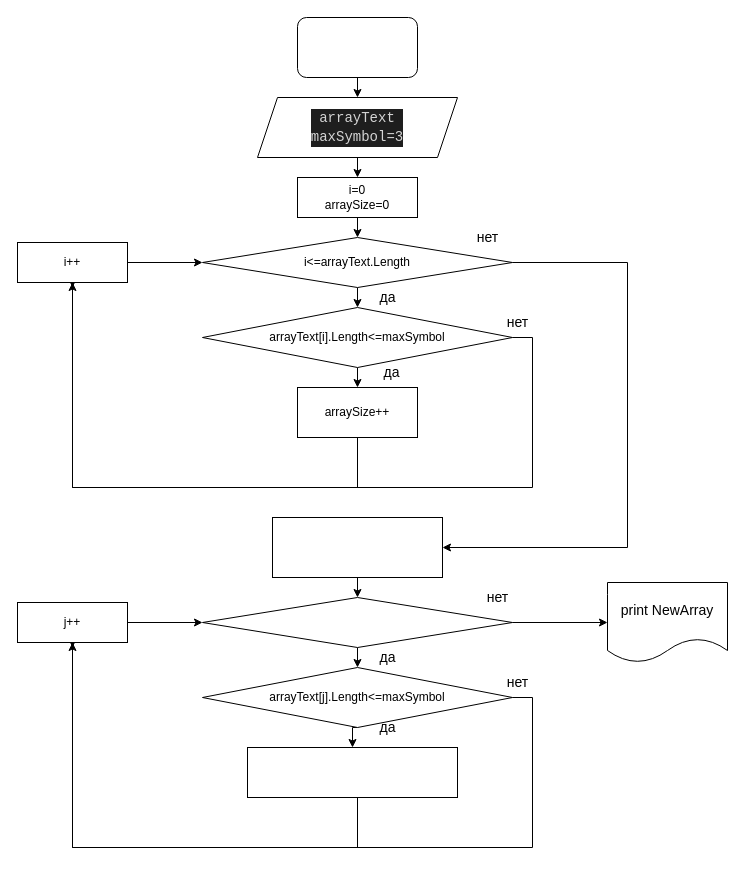
This 745x873 diagram has some shape labels left out. Here are the shapes that lost their labels. From the top down, the box of each, then its label:
(296, 16, 418, 78): начало
(272, 516, 442, 578): NewArray.Length num = 0 j = 0
(202, 596, 512, 648): j<=arrayText.Length
(246, 746, 458, 798): num++ NewArray[num]=arrayText[j]
